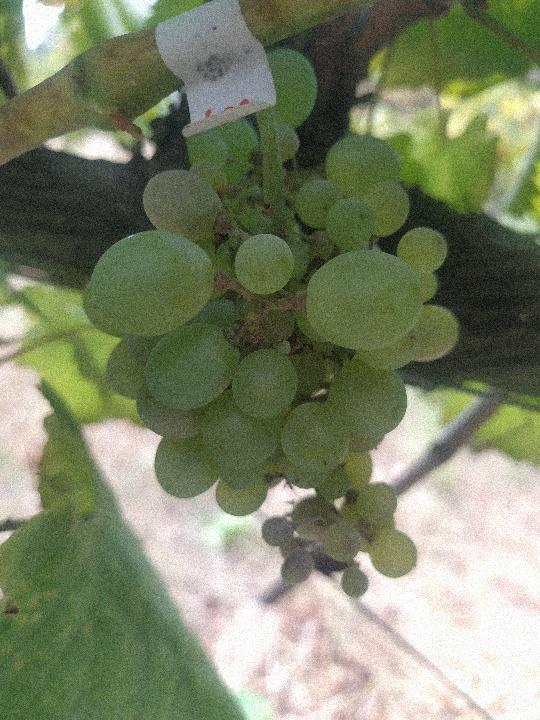grape: (79, 44, 464, 602)
